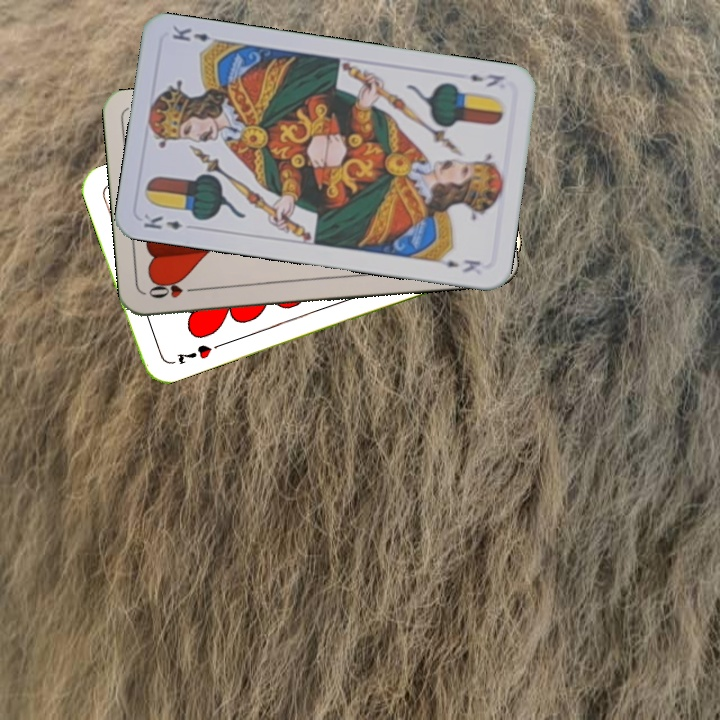EK: (139, 210, 185, 232), (466, 70, 507, 90)
H7: (173, 340, 215, 368)
HO: (144, 278, 203, 301)
